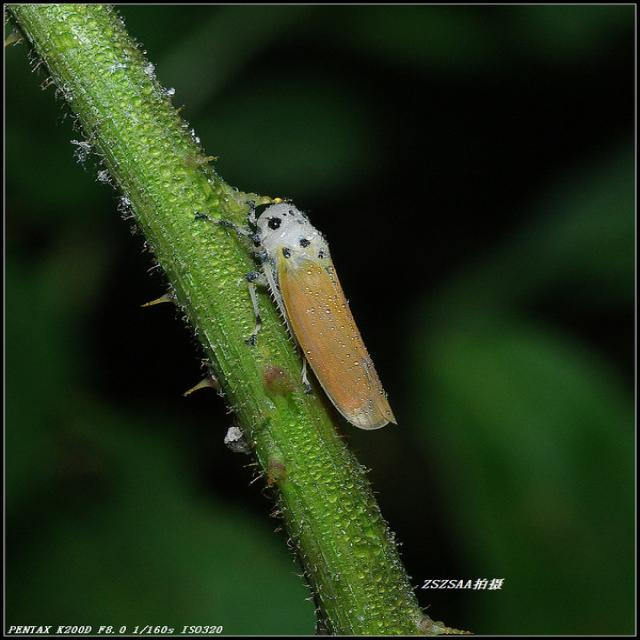Yechan: (200, 182, 404, 436)
